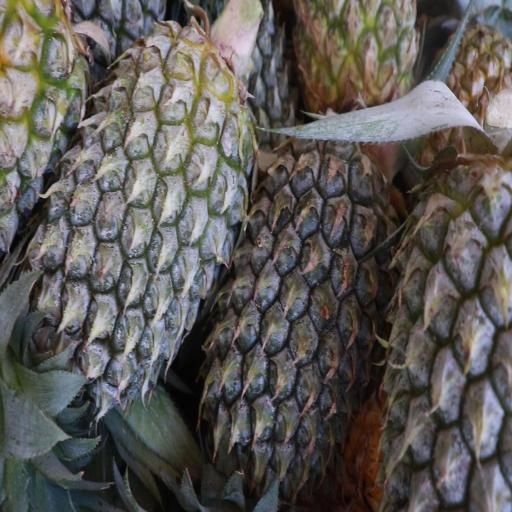------------------------------: (293, 0, 413, 113)
